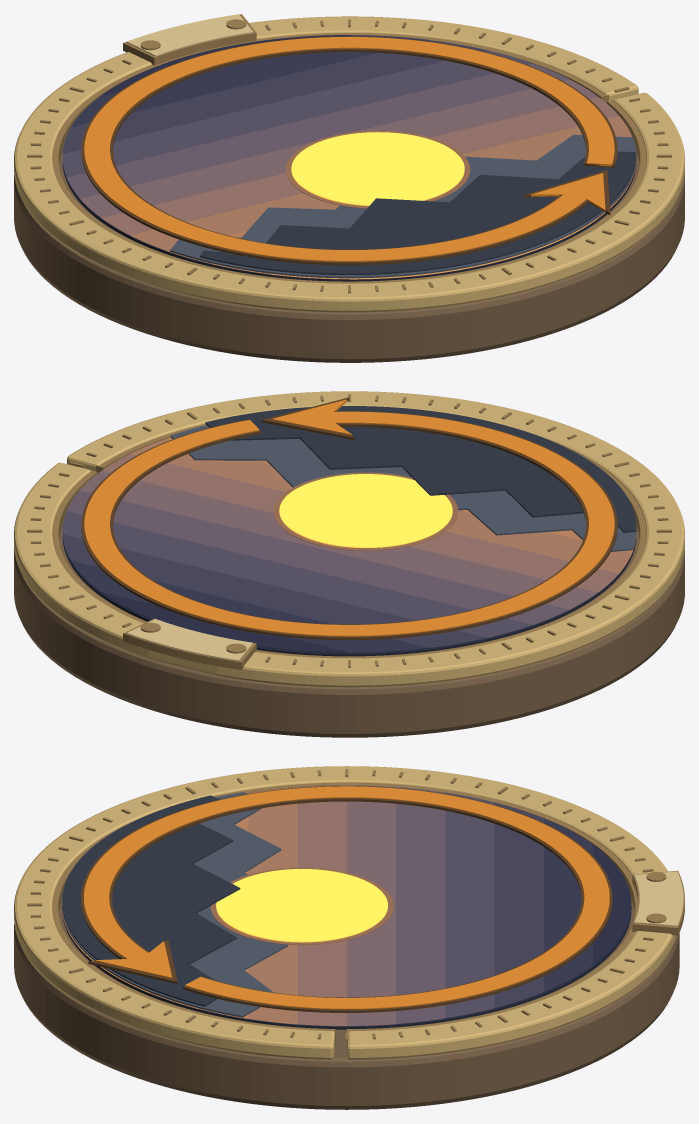
Rendered from comeback.glb.
3 views of the same model, one above another, from view 1: azimuth 30°, elevation 25°; view 2: azimuth 150°, elevation 25°; view 3: azimuth 270°, elevation 25° (orthographic).
Visible parts, largest first — view 1: CB_Bands, CB_Ring, CB_Plate, CB_ArrowArc, CB_NearRidge, CB_Sun, CB_FarRidge, CB_ArrowEdgeArc, CB_RingIn, CB_Ticks, CB_Splice, CB_Field (+3 smaller); view 2: CB_Bands, CB_Ring, CB_Plate, CB_ArrowArc, CB_NearRidge, CB_Sun, CB_FarRidge, CB_ArrowEdgeArc, CB_RingIn, CB_Ticks, CB_Splice, CB_Field (+4 smaller); view 3: CB_Bands, CB_Ring, CB_Plate, CB_ArrowArc, CB_NearRidge, CB_Sun, CB_FarRidge, CB_ArrowEdgeArc, CB_RingIn, CB_Ticks, CB_Field, CB_Splice (+4 smaller).
Boxes of the visible parts, bbox=[...] form: CB_Bands: bbox=[62, 35, 636, 279]; CB_Ring: bbox=[14, 16, 684, 312]; CB_Plate: bbox=[14, 152, 684, 362]; CB_ArrowArc: bbox=[84, 37, 614, 261]; CB_NearRidge: bbox=[200, 151, 636, 274]; CB_Sun: bbox=[291, 132, 464, 205]; CB_FarRidge: bbox=[170, 134, 636, 278]; CB_ArrowEdgeArc: bbox=[81, 36, 617, 265]; CB_RingIn: bbox=[52, 33, 646, 283]; CB_Ticks: bbox=[27, 19, 671, 293]; CB_Splice: bbox=[126, 14, 253, 56]; CB_Field: bbox=[62, 163, 636, 281]; CB_Bands: bbox=[62, 437, 636, 652]; CB_Ring: bbox=[14, 391, 684, 687]; CB_Plate: bbox=[14, 526, 684, 737]; CB_ArrowArc: bbox=[84, 411, 614, 636]; CB_NearRidge: bbox=[205, 406, 636, 532]; CB_Sun: bbox=[279, 474, 452, 547]; CB_FarRidge: bbox=[170, 425, 636, 551]; CB_ArrowEdgeArc: bbox=[81, 411, 617, 639]; CB_RingIn: bbox=[52, 424, 646, 658]; CB_Ticks: bbox=[27, 394, 671, 667]; CB_Splice: bbox=[126, 619, 253, 661]; CB_Field: bbox=[62, 537, 636, 656]; CB_Bands: bbox=[62, 785, 631, 1026]; CB_Ring: bbox=[14, 766, 676, 1059]; CB_Plate: bbox=[14, 900, 679, 1109]; CB_ArrowArc: bbox=[84, 786, 609, 1009]; CB_NearRidge: bbox=[62, 795, 240, 1006]; CB_Sun: bbox=[216, 869, 387, 942]; CB_FarRidge: bbox=[62, 792, 288, 1017]; CB_ArrowEdgeArc: bbox=[81, 786, 612, 1012]; CB_RingIn: bbox=[52, 782, 638, 1045]; CB_Ticks: bbox=[27, 769, 653, 1040]; CB_Field: bbox=[62, 907, 631, 1029]; CB_Splice: bbox=[634, 871, 683, 926].
Size of the model in its own units: 0.0391 by 0.00486 by 0.0394.
